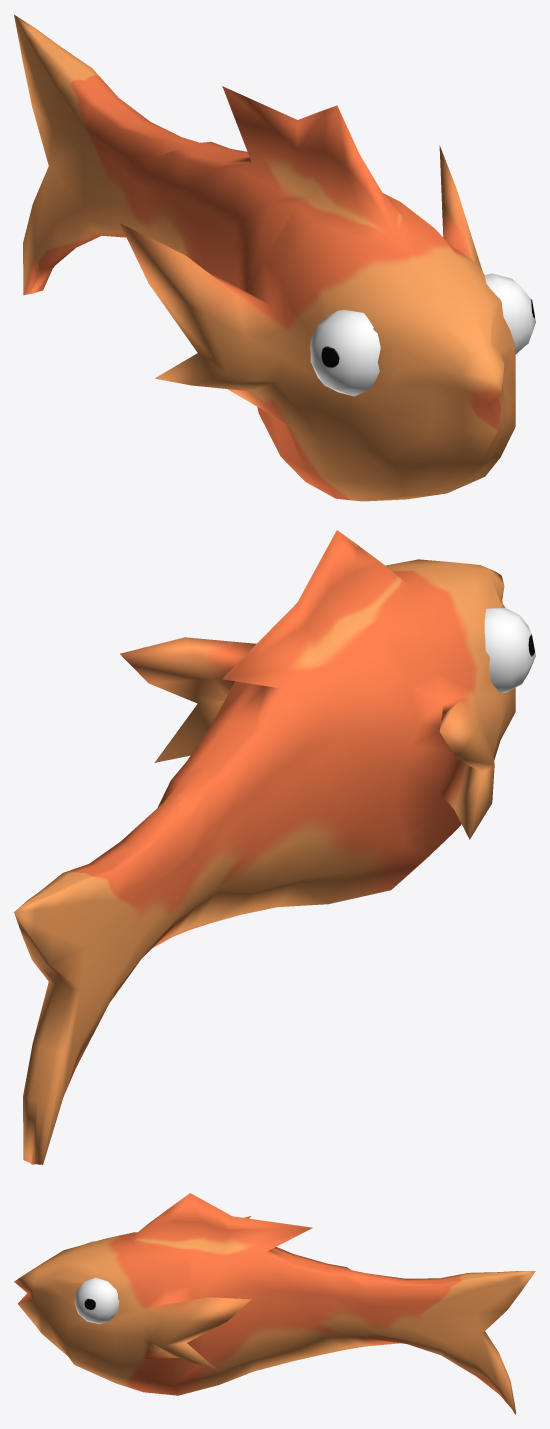
The model's file is goldenfish.fbx.
3 views of the same model, one above another, from view 1: azimuth 30°, elevation 25°; view 2: azimuth 150°, elevation 25°; view 3: azimuth 270°, elevation 25° (orthographic). The views are drawn at different scales.
Parts seen in each view (by area): view 1: Roundcube.001, Roundcube.002; view 2: Roundcube.001, Roundcube.002; view 3: Roundcube.001, Roundcube.002.
Boxes of the visible parts, x1=… form: Roundcube.001: x1=14, y1=14, x2=515, y2=501; Roundcube.002: x1=310, y1=273, x2=535, y2=396; Roundcube.001: x1=14, y1=530, x2=515, y2=1164; Roundcube.002: x1=484, y1=607, x2=535, y2=692; Roundcube.001: x1=14, y1=1193, x2=535, y2=1414; Roundcube.002: x1=74, y1=1241, x2=119, y2=1324.
Size of the model in its own units: 24.76 by 30.4 by 65.33.
